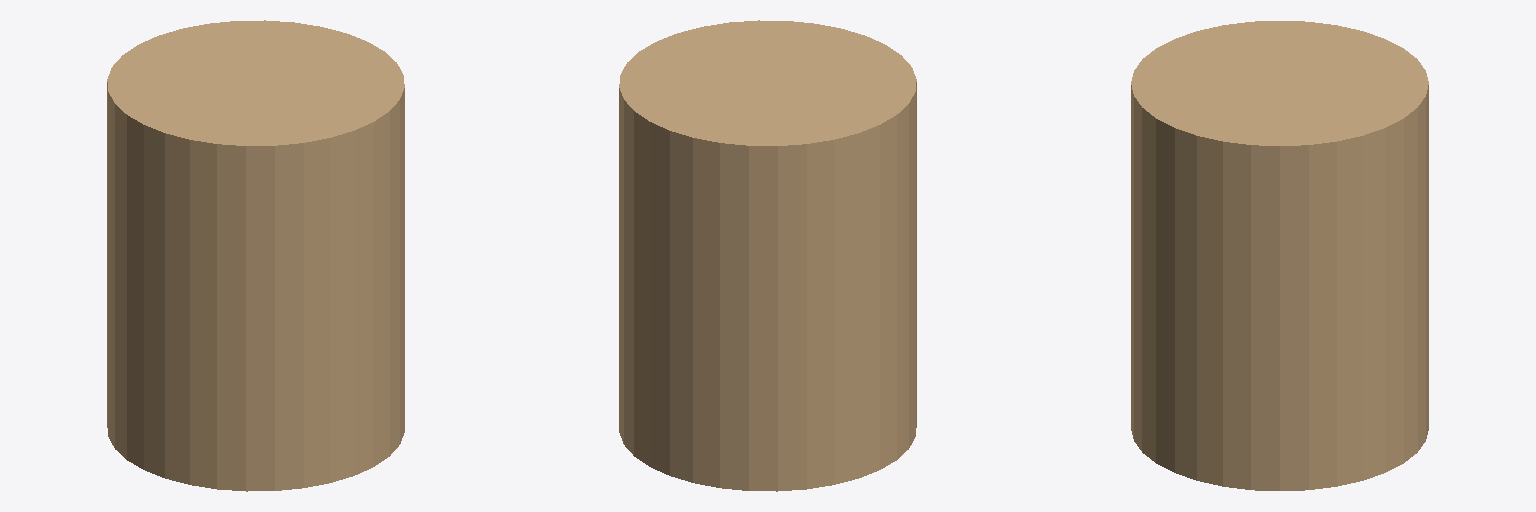
robot.urdf — mug:
<?xml version="1.0" ?>
<robot name = "mug">
  <material name="Black">
    <color rgba="0.0 0.0 0.0 1.0"/>
  </material>
  <material name="Blue">
    <color rgba="0.0 0.0 0.8 1.0"/>
  </material>
  <material name="Green">
    <color rgba="0.0 0.8 0.0 1.0"/>
  </material>
  <material name="Grey">
    <color rgba="0.4 0.4 0.4 1.0"/>
  </material>
  <material name="Orange">
    <color rgba="1.0 0.423529411765 0.0392156862745 1.0"/>
  </material>
  <material name="Brown">
    <color rgba="0.870588235294 0.811764705882 0.764705882353 1.0"/>
  </material>
  <material name="Tan">
    <color rgba="0.823 0.706 0.549 1.0"/>
  </material>
  <material name="Red">
    <color rgba="0.8 0.0 0.0 1.0"/>
  </material>
  <material name="White">
    <color rgba="1.0 1.0 1.0 1.0"/>
  </material>
  
  <link name = "mug">
    <inertial>
      <origin xyz = "0 0 0"/>
      <mass value="0.094"/>
      <!--This inertia is computed at the CoM frame -->
      <inertia ixx="0.000156" ixy="0" ixz="0" iyy="0.000156" iyz="0" izz="0.00015"/>
    </inertial>
    <visual>
      <geometry>
        <cylinder length="0.102" radius="0.0399"/>
      </geometry>
      <material name="Tan"/>
    </visual>
    <collision>
      <!-- We use a cylinder slightly shorter than the mug as the collision 
           geometry, together with some spheres on the bottom and top of the mug-->
      <geometry>
        <origin xyz = "0 0 0.01" rpy="0 0 0"/>
        <cylinder length="0.08" radius="0.0399"/>
      </geometry>
      <drake_compliance>
        <youngs_modulus>1e7</youngs_modulus>
        <dissipation>5</dissipation>
        <static_friction>0.5</static_friction>
        <dynamic_friction>0.2</dynamic_friction>
      </drake_compliance>
    </collision>
    <collision>
      <origin xyz="0.0399 0 -0.051" rpy="0 0 0"/>
      <geometry>
        <sphere radius = "1e-4"/>
      </geometry>
      <drake_compliance>
        <youngs_modulus>1e7</youngs_modulus>
        <dissipation>5</dissipation>
        <static_friction>0.5</static_friction>
        <dynamic_friction>0.2</dynamic_friction>
      </drake_compliance>
    </collision>
    <collision>
      <origin xyz="-0.0399 0 -0.051" rpy="0 0 0"/>
      <geometry>
        <sphere radius = "1e-4"/>
      </geometry>
    </collision>
    <drake_compliance>
      <youngs_modulus>1e7</youngs_modulus>
      <dissipation>5</dissipation>
      <static_friction>0.5</static_friction>
      <dynamic_friction>0.2</dynamic_friction>
    </drake_compliance>
    <collision>
      <origin xyz="0 0.0399 -0.051" rpy="0 0 0"/>
      <geometry>
        <sphere radius = "1e-4"/>
      </geometry>
      <drake_compliance>
        <youngs_modulus>1e7</youngs_modulus>
        <dissipation>5</dissipation>
        <static_friction>0.5</static_friction>
        <dynamic_friction>0.2</dynamic_friction>
      </drake_compliance>
    </collision>
    <collision>
      <origin xyz="0 -0.0399 -0.051" rpy="0 0 0"/>
      <geometry>
        <sphere radius = "1e-4"/>
      </geometry>
      <drake_compliance>
        <youngs_modulus>1e7</youngs_modulus>
        <dissipation>5</dissipation>
        <static_friction>0.5</static_friction>
        <dynamic_friction>0.2</dynamic_friction>
      </drake_compliance>
    </collision>
    <collision>
      <origin xyz="0.0283 0.0283 -0.051" rpy="0 0 0"/>
      <geometry>
        <sphere radius = "1e-4"/>
      </geometry>
      <drake_compliance>
        <youngs_modulus>1e7</youngs_modulus>
        <dissipation>5</dissipation>
        <static_friction>0.5</static_friction>
        <dynamic_friction>0.2</dynamic_friction>
      </drake_compliance>
    </collision>
    <collision>
      <origin xyz="-0.0283 0.0283 -0.051" rpy="0 0 0"/>
      <geometry>
        <sphere radius = "1e-4"/>
      </geometry>
      <drake_compliance>
        <youngs_modulus>1e7</youngs_modulus>
        <dissipation>5</dissipation>
        <static_friction>0.5</static_friction>
        <dynamic_friction>0.2</dynamic_friction>
      </drake_compliance>
    </collision>
    <collision>
      <origin xyz="0.0283 -0.0283 -0.051" rpy="0 0 0"/>
      <geometry>
        <sphere radius = "1e-4"/>
      </geometry>
      <drake_compliance>
        <youngs_modulus>1e7</youngs_modulus>
        <dissipation>5</dissipation>
        <static_friction>0.5</static_friction>
        <dynamic_friction>0.2</dynamic_friction>
      </drake_compliance>
    </collision>
    <collision>
      <origin xyz="-0.0283 -0.0283 -0.051" rpy="0 0 0"/>
      <geometry>
        <sphere radius = "1e-4"/>
      </geometry>
      <drake_compliance>
        <youngs_modulus>1e7</youngs_modulus>
        <dissipation>5</dissipation>
        <static_friction>0.5</static_friction>
        <dynamic_friction>0.2</dynamic_friction>
      </drake_compliance>
    </collision>
    <collision>
      <origin xyz="0.0399 0 0.051" rpy="0 0 0"/>
      <geometry>
        <sphere radius = "1e-4"/>
      </geometry>
      <drake_compliance>
        <youngs_modulus>1e7</youngs_modulus>
        <dissipation>5</dissipation>
        <static_friction>0.5</static_friction>
        <dynamic_friction>0.2</dynamic_friction>
      </drake_compliance>
    </collision>
    <collision>
      <origin xyz="-0.0399 0 0.051" rpy="0 0 0"/>
      <geometry>
        <sphere radius = "1e-4"/>
      </geometry>
      <drake_compliance>
        <youngs_modulus>1e7</youngs_modulus>
        <dissipation>5</dissipation>
        <static_friction>0.5</static_friction>
        <dynamic_friction>0.2</dynamic_friction>
      </drake_compliance>
    </collision>
    <collision>
      <origin xyz="0 0.0399 0.051" rpy="0 0 0"/>
      <geometry>
        <sphere radius = "1e-4"/>
      </geometry>
      <drake_compliance>
        <youngs_modulus>1e7</youngs_modulus>
        <dissipation>5</dissipation>
        <static_friction>0.5</static_friction>
        <dynamic_friction>0.2</dynamic_friction>
      </drake_compliance>
    </collision>
    <collision>
      <origin xyz="0 -0.0399 0.051" rpy="0 0 0"/>
      <geometry>
        <sphere radius = "1e-4"/>
      </geometry>
      <drake_compliance>
        <youngs_modulus>1e7</youngs_modulus>
        <dissipation>5</dissipation>
        <static_friction>0.5</static_friction>
        <dynamic_friction>0.2</dynamic_friction>
      </drake_compliance>
    </collision>
    <collision>
      <origin xyz="0.0283 0.0283 0.051" rpy="0 0 0"/>
      <geometry>
        <sphere radius = "1e-4"/>
      </geometry>
      <drake_compliance>
        <youngs_modulus>1e7</youngs_modulus>
        <dissipation>5</dissipation>
        <static_friction>0.5</static_friction>
        <dynamic_friction>0.2</dynamic_friction>
      </drake_compliance>
    </collision>
    <collision>
      <origin xyz="-0.0283 0.0283 0.051" rpy="0 0 0"/>
      <geometry>
        <sphere radius = "1e-4"/>
      </geometry>
      <drake_compliance>
        <youngs_modulus>1e7</youngs_modulus>
        <dissipation>5</dissipation>
        <static_friction>0.5</static_friction>
        <dynamic_friction>0.2</dynamic_friction>
      </drake_compliance>
    </collision>
    <collision>
      <origin xyz="0.0283 -0.0283 0.051" rpy="0 0 0"/>
      <geometry>
        <sphere radius = "1e-4"/>
      </geometry>
      <drake_compliance>
        <youngs_modulus>1e7</youngs_modulus>
        <dissipation>5</dissipation>
        <static_friction>0.5</static_friction>
        <dynamic_friction>0.2</dynamic_friction>
      </drake_compliance>
    </collision>
    <collision>
      <origin xyz="-0.0283 -0.0283 0.051" rpy="0 0 0"/>
      <geometry>
        <sphere radius = "1e-4"/>
      </geometry>
    </collision>
  </link>
</robot>

--- Render facts (derived) ---
The picture shows the robot from 3 angles, left to right: view 1: azimuth 30°, elevation 25°; view 2: azimuth 150°, elevation 25°; view 3: azimuth 270°, elevation 25°; orthographic projection.
Model mug with 1 links and 0 joints (none), rooted at mug, posed all joints at 0.
Links seen in each view (by area): view 1: mug; view 2: mug; view 3: mug.
Boxes of the visible links, x1,y1,x2,y2 form: mug: (107,20,404,491); mug: (619,20,916,491); mug: (1131,21,1428,490).
Bounding box of the posed robot: 0.0798 × 0.0798 × 0.102 m (x, y, z).
Geometry: primitives only (box / cylinder / sphere), no mesh files.
